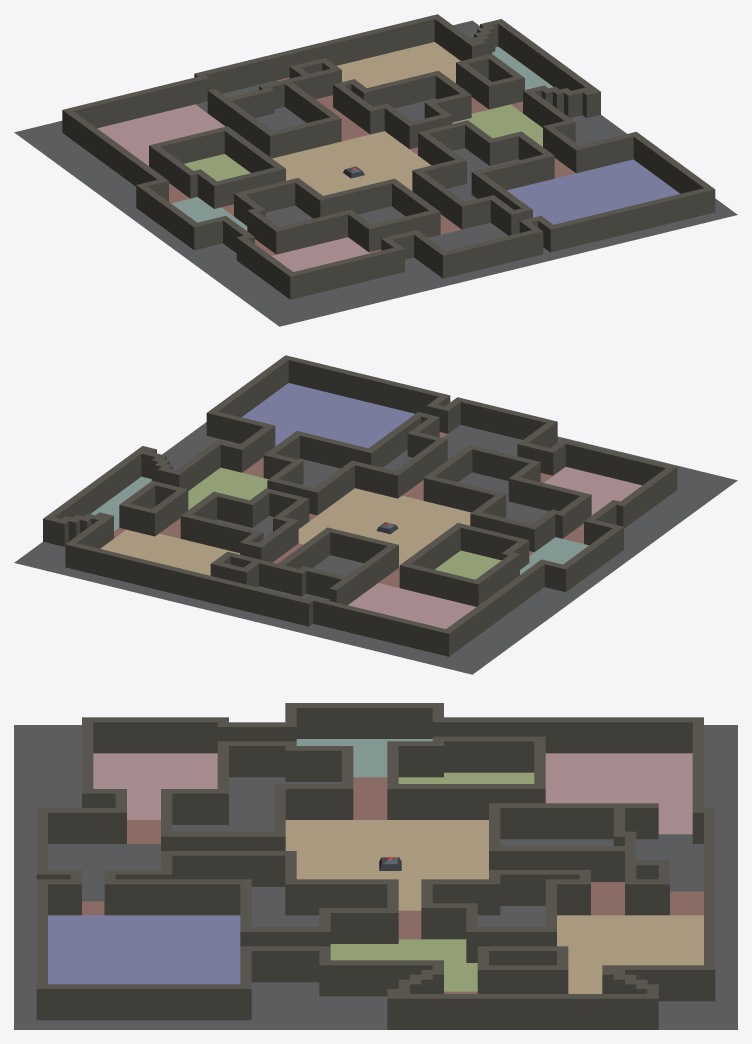
The model's file is Map_TestSight.fbx.
3 views of the same model, one above another, from view 1: azimuth 30°, elevation 25°; view 2: azimuth 150°, elevation 25°; view 3: azimuth 270°, elevation 25° (orthographic). The views are drawn at different scales.
Parts seen in each view (by area): view 1: Walls, Ground, Ground.003, Ground.001, Ground.005, Ground.004, Ground.002, Ground.006; view 2: Walls, Ground, Ground.003, Ground.001, Ground.005, Ground.004, Ground.006, Ground.002; view 3: Walls, Ground, Ground.003, Ground.005, Ground.001, Ground.002, Ground.004, Ground.006.
Part boxes in pixels (x1,y1,x2,y2): Walls: (62, 14, 715, 299); Ground: (14, 20, 737, 326); Ground.003: (272, 42, 460, 195); Ground.001: (507, 159, 680, 224); Ground.005: (97, 104, 369, 271); Ground.004: (184, 104, 542, 181); Ground.002: (169, 77, 575, 255); Ground.006: (171, 46, 553, 230); Walls: (43, 355, 677, 656); Ground: (14, 422, 737, 674); Ground.003: (100, 488, 471, 575); Ground.001: (242, 383, 414, 448); Ground.005: (348, 467, 641, 628); Ground.004: (188, 467, 501, 579); Ground.006: (91, 476, 588, 574); Ground.002: (114, 432, 583, 587); Walls: (36, 703, 715, 1029); Ground: (14, 725, 737, 1029); Ground.003: (285, 820, 703, 993); Ground.005: (93, 753, 692, 834); Ground.001: (48, 915, 240, 984); Ground.002: (82, 777, 703, 993); Ground.004: (330, 772, 534, 991); Ground.006: (296, 739, 432, 777).
Size of the model in its own units: 12567 by 610 by 12607.
